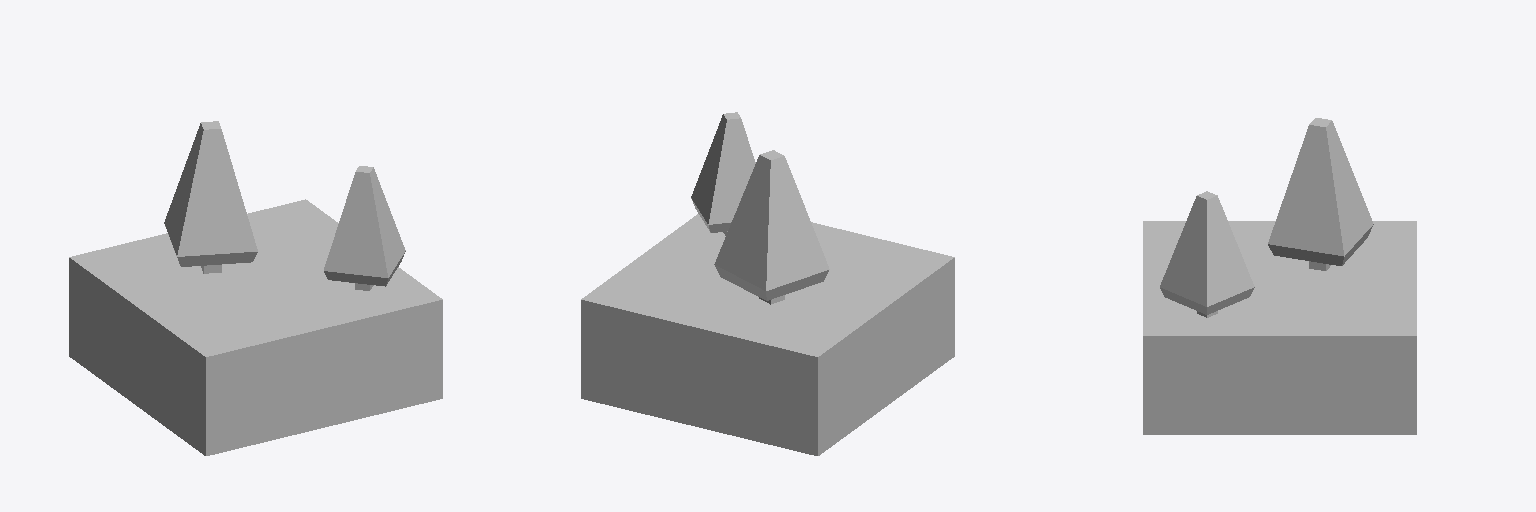
The model's file is tile_057.obj.
The picture shows the model from 3 angles: view 1: azimuth 30°, elevation 25°; view 2: azimuth 150°, elevation 25°; view 3: azimuth 270°, elevation 25°; orthographic projection.
Parts seen in each view (by area): view 1: tile_057, Component#2; view 2: tile_057, Component#2; view 3: tile_057, Component#2.
Part boxes in pixels (x1,y1,x2,y2): tile_057: (69,199,442,455); Component#2: (164,121,405,290); tile_057: (581,214,954,455); Component#2: (691,112,829,304); tile_057: (1143,221,1416,434); Component#2: (1160,118,1373,317).
Bounding box in the file's own units: 1 × 0.9802 × 1.